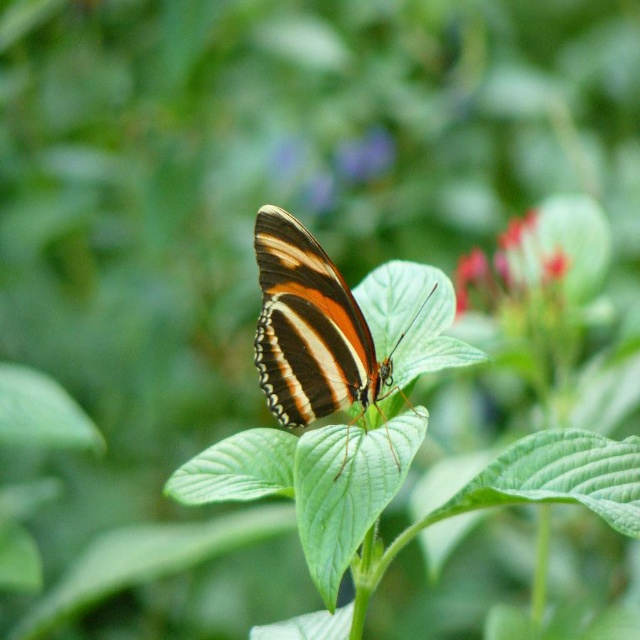Butterfly: (254, 204, 438, 482)
